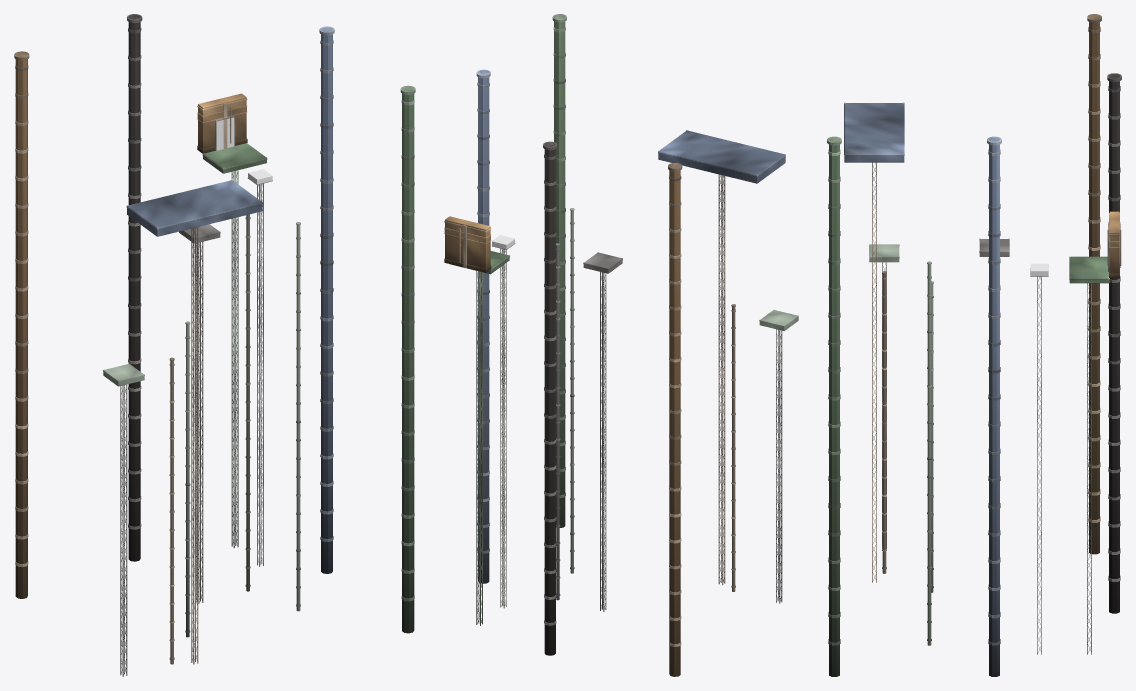
The model's file is SM_Tower_B.fbx.
3 views of the same model, side by side, from view 1: azimuth 30°, elevation 25°; view 2: azimuth 150°, elevation 25°; view 3: azimuth 270°, elevation 25° (orthographic). The views are drawn at different scales.
Visible parts, largest first — view 1: SM_Tower_B; view 2: SM_Tower_B; view 3: SM_Tower_B.
Boxes of the visible parts, x1,y1,x2,y2 form: SM_Tower_B: (14,14,415,676); SM_Tower_B: (444,14,798,676); SM_Tower_B: (827,14,1121,676).
Size of the model in its own units: 3176 by 5900 by 2947.
